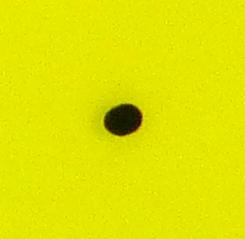Coleoptera: (100, 100, 145, 139)
